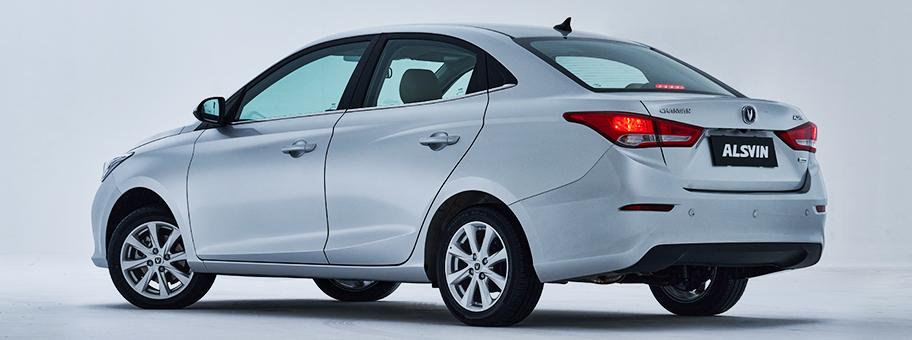Sedan: (73, 11, 843, 333)
